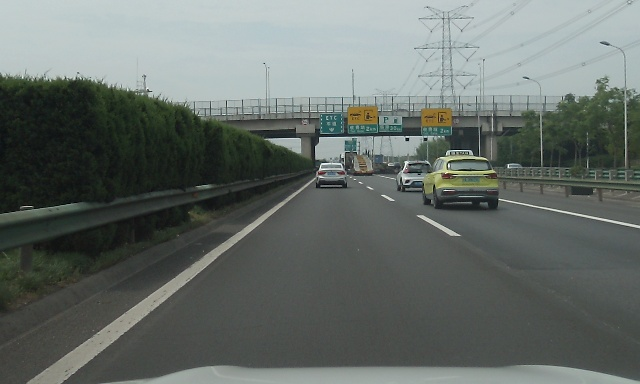car: (422, 150, 499, 209), (396, 161, 436, 192), (315, 163, 347, 189)
truck: (339, 152, 373, 176), (374, 155, 383, 167)
